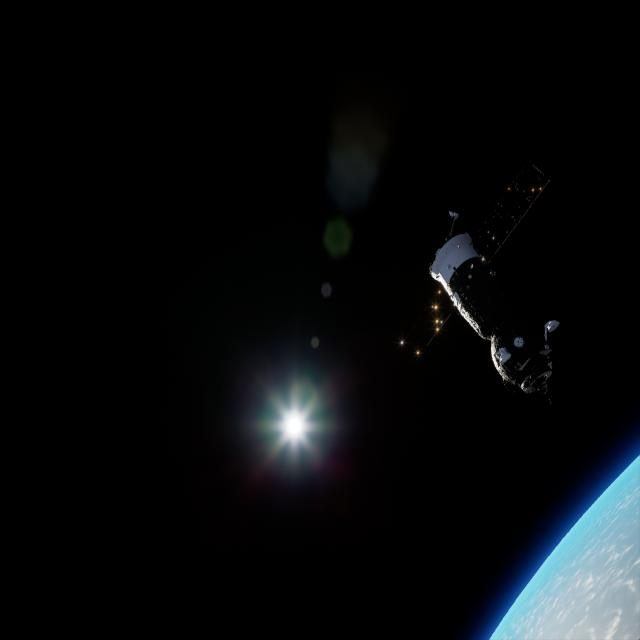Satellites revolving around earth: (427, 157, 563, 402)
